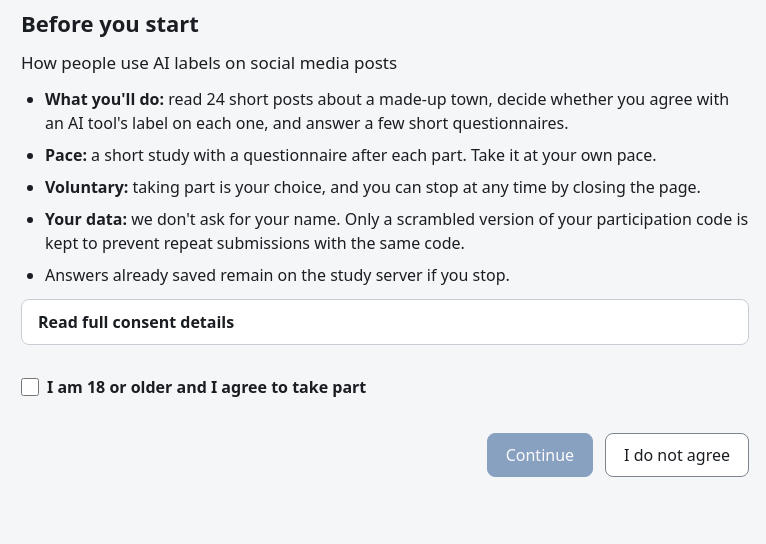
Test: ConsentScreen › shows a self-guided error when saving consent fails
Click the checkbox labelled "I am 18 or older and I agree to take part" at coordinates (30, 387), box [21,378,39,396]
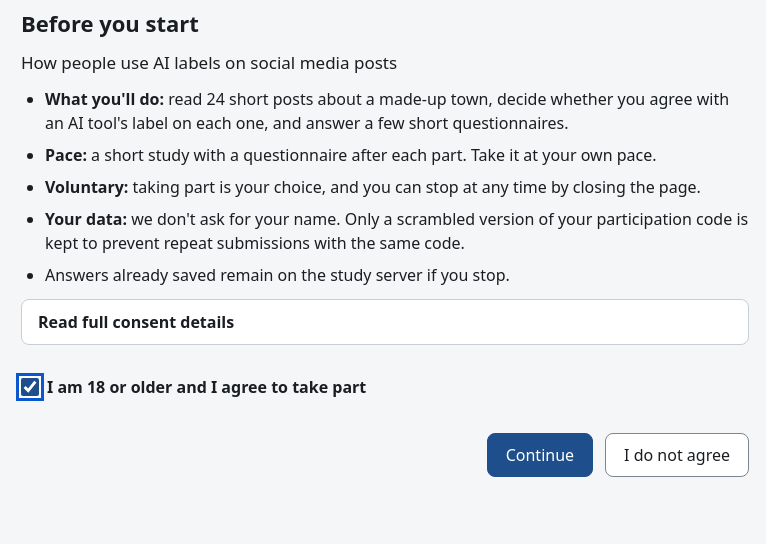
Click the button "Continue" at coordinates (540, 455), box [487,433,593,477]
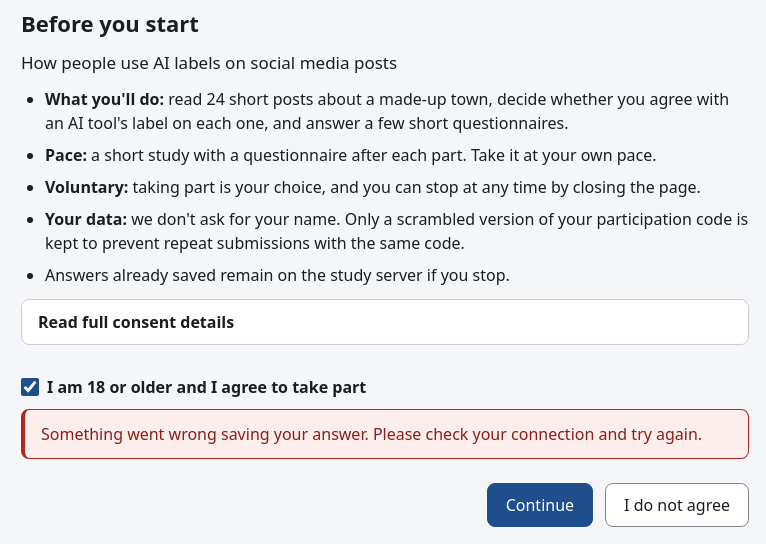
Check: the message shows "try again", box [41,423,702,445]
